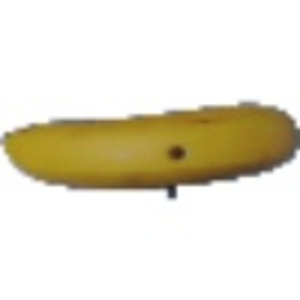banana: (2, 100, 298, 191)
